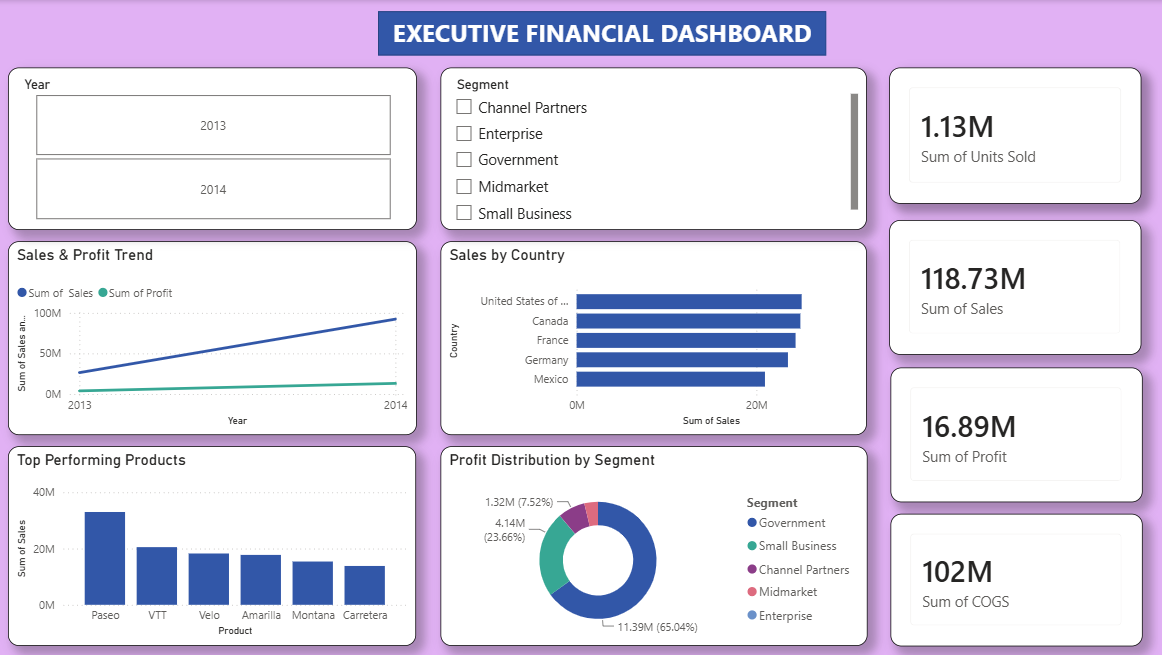

What the dashboard file says about the page in this screenshot:
{"tool":"powerbi","page":{"name":"Page 1","canvas":[1280,720],"ordinal":0},"visuals":[{"type":"cardVisual","fields":{"Data":["Sum(Sheet1. Sales)"]},"box":[979,241.6,276.6,147.9],"z":0},{"type":"cardVisual","fields":{"Data":["Sum(Sheet1.Profit)"]},"box":[980.1,403.1,276.6,147.9],"z":1000},{"type":"cardVisual","fields":{"Data":["Sum(Sheet1.COGS)"]},"box":[980.1,563.4,276.6,145.7],"z":2000},{"type":"cardVisual","fields":{"Data":["Sum(Sheet1.Units Sold)"]},"box":[979,74.5,277.2,149.6],"z":3000},{"type":"lineChart","title":"Sales & Profit Trend","fields":{"Category":["Sheet1.Date.Variation.Date Hierarchy.Year","Sheet1.Date.Variation.Date Hierarchy.Quarter","Sheet1.Date.Variation.Date Hierarchy.Month","Sheet1.Date.Variation.Date Hierarchy.Day"],"Y":["Sum(Sheet1. Sales)","Sum(Sheet1.Profit)"]},"box":[11.3,265.4,448.7,212.7],"z":4000},{"type":"clusteredBarChart","title":"Sales by Country","fields":{"Category":["Sheet1.Country"],"Y":["Sum(Sheet1. Sales)"]},"box":[485.5,265.4,467.9,212.7],"z":5000},{"type":"donutChart","title":"Profit Distribution by Segment","fields":{"Category":["Sheet1.Segment"],"Y":["Sum(Sheet1.Profit)"]},"box":[485.5,490.1,468.6,219.1],"z":6000},{"type":"columnChart","title":"Top Performing Products","fields":{"Category":["Sheet1.Product"],"Y":["Sum(Sheet1. Sales)"]},"box":[11.3,490.1,448.3,219.1],"z":7000},{"type":"slicer","fields":{"Values":["Sheet1.Date.Variation.Date Hierarchy.Year"]},"box":[11.3,74.5,448.7,178.4],"z":8000},{"type":"slicer","fields":{"Values":["Sheet1.Segment"]},"box":[485.5,74.5,467.9,178.4],"z":9000},{"type":"shape","box":[417.8,12.4,492.3,48.6],"z":10000},{"type":"textbox","box":[417.8,12.4,492.3,48.6],"z":10001}]}

Visuals, with their boxes in screenshot pixels (x1, y1, x2, y2), scaled from the page's 1280x720 canvas onto the 1162x655 screenshot:
cardVisual - Sum(Sheet1. Sales): {"x1": 889, "y1": 220, "x2": 1140, "y2": 354}
cardVisual - Sum(Sheet1.Profit): {"x1": 890, "y1": 367, "x2": 1141, "y2": 501}
cardVisual - Sum(Sheet1.COGS): {"x1": 890, "y1": 513, "x2": 1141, "y2": 645}
cardVisual - Sum(Sheet1.Units Sold): {"x1": 889, "y1": 68, "x2": 1140, "y2": 204}
"Sales & Profit Trend" lineChart: {"x1": 10, "y1": 241, "x2": 418, "y2": 435}
"Sales by Country" clusteredBarChart: {"x1": 441, "y1": 241, "x2": 866, "y2": 435}
"Profit Distribution by Segment" donutChart: {"x1": 441, "y1": 446, "x2": 866, "y2": 645}
"Top Performing Products" columnChart: {"x1": 10, "y1": 446, "x2": 417, "y2": 645}
slicer - Sheet1.Date.Variation.Date Hierarchy.Year: {"x1": 10, "y1": 68, "x2": 418, "y2": 230}
slicer - Sheet1.Segment: {"x1": 441, "y1": 68, "x2": 866, "y2": 230}
shape: {"x1": 379, "y1": 11, "x2": 826, "y2": 55}
textbox: {"x1": 379, "y1": 11, "x2": 826, "y2": 55}
